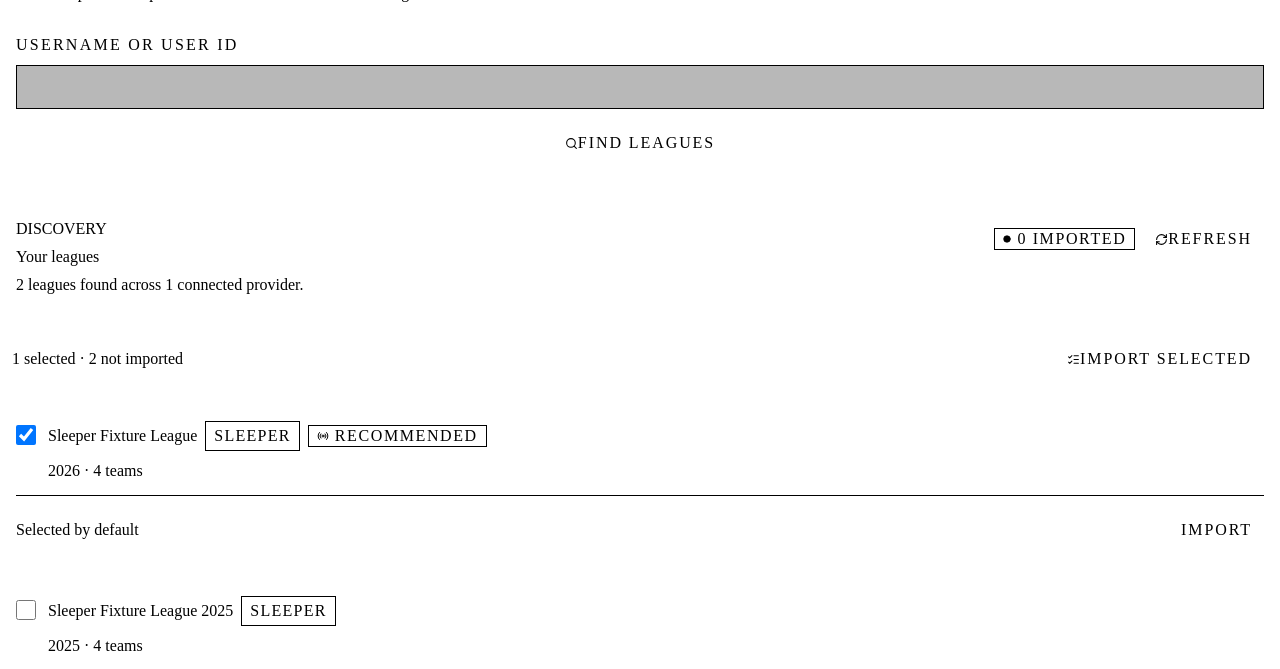
Sleeper connect panel lists persisted discoveries and imports the selected default league
The image size is (1280, 669).
(page scrolled)
expect the checkbox labelled "Sleeper Fixture League Sleeper recommended 2026 · 4 teams" is checked: met, box [16, 425, 36, 445]
expect the checkbox labelled "Sleeper Fixture League 2025 Sleeper 2025 · 4 teams" is not checked: met, box [16, 600, 36, 620]
Click the button "Import selected": (1160, 359) [1051, 337, 1268, 381]
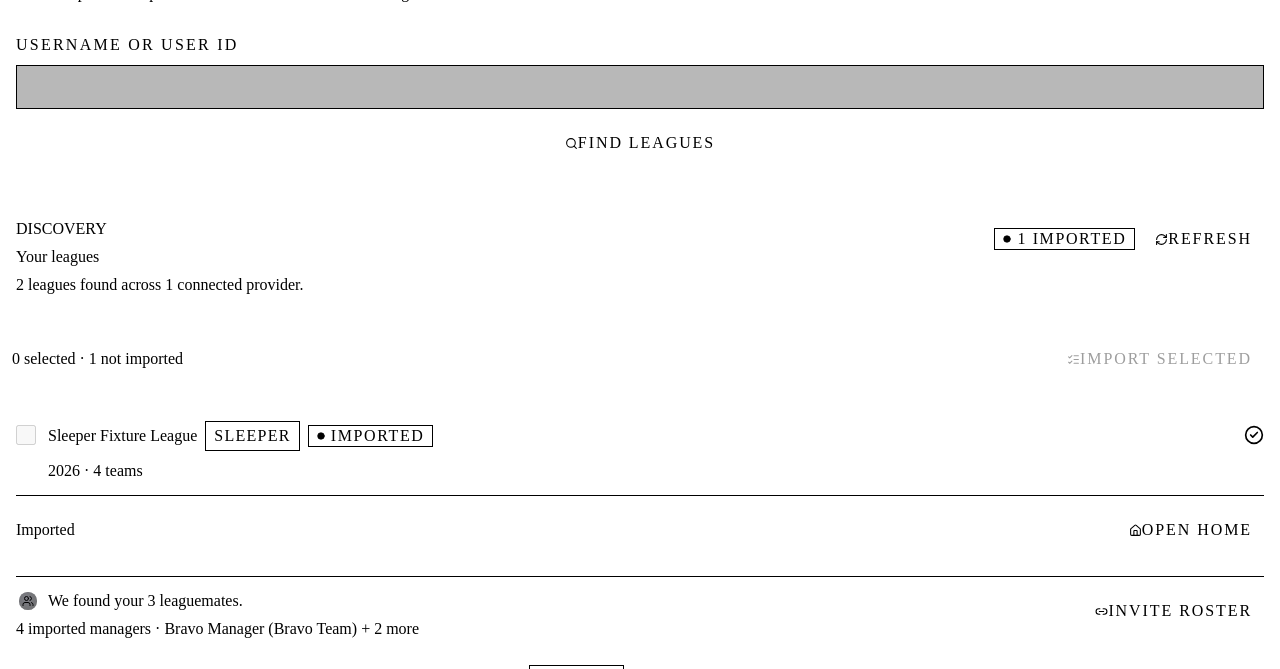
expect the text "Imported" is shown: met, box [16, 521, 75, 538]
expect the text "We found your 3 leaguemates." is shown: met, box [22, 592, 243, 609]
